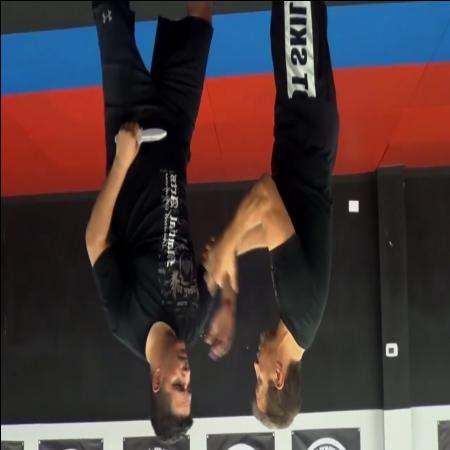long weapon: (112, 120, 169, 148)
